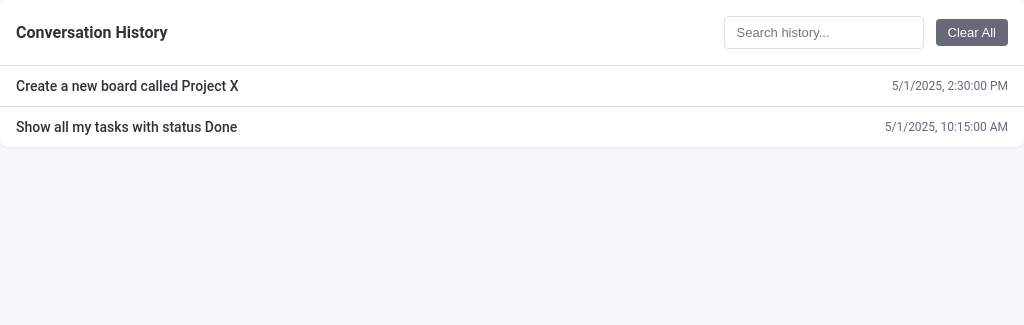
Test case: ConversationHistory Component › expands item details when clicked
The width and height of the screenshot is (1024, 325).
Check: the text "I created a new board named \"Project X\" for you." is not shown
Click the first history item
Click the text "Create a new board called Project X".
click(127, 86)  # box top-left (16, 78), bottom-right (238, 94)
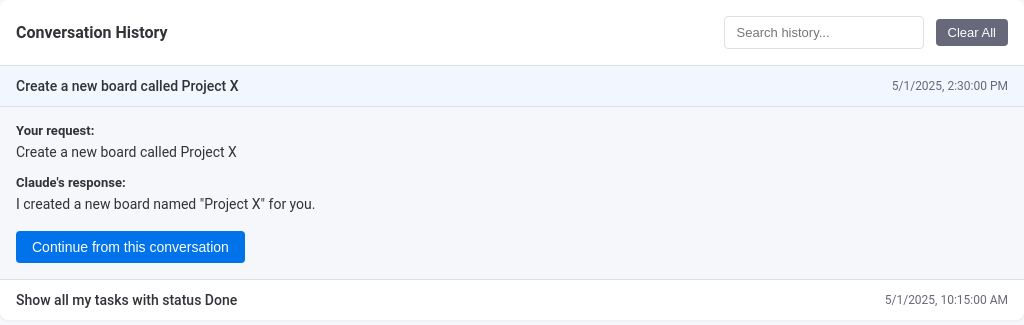
Check: the text "I created a new board named \"Project X\" for you." is shown, box top-left (16, 196), bottom-right (316, 212)
Check: the button "Continue from this conversation" is shown, box top-left (16, 231), bottom-right (245, 263)
